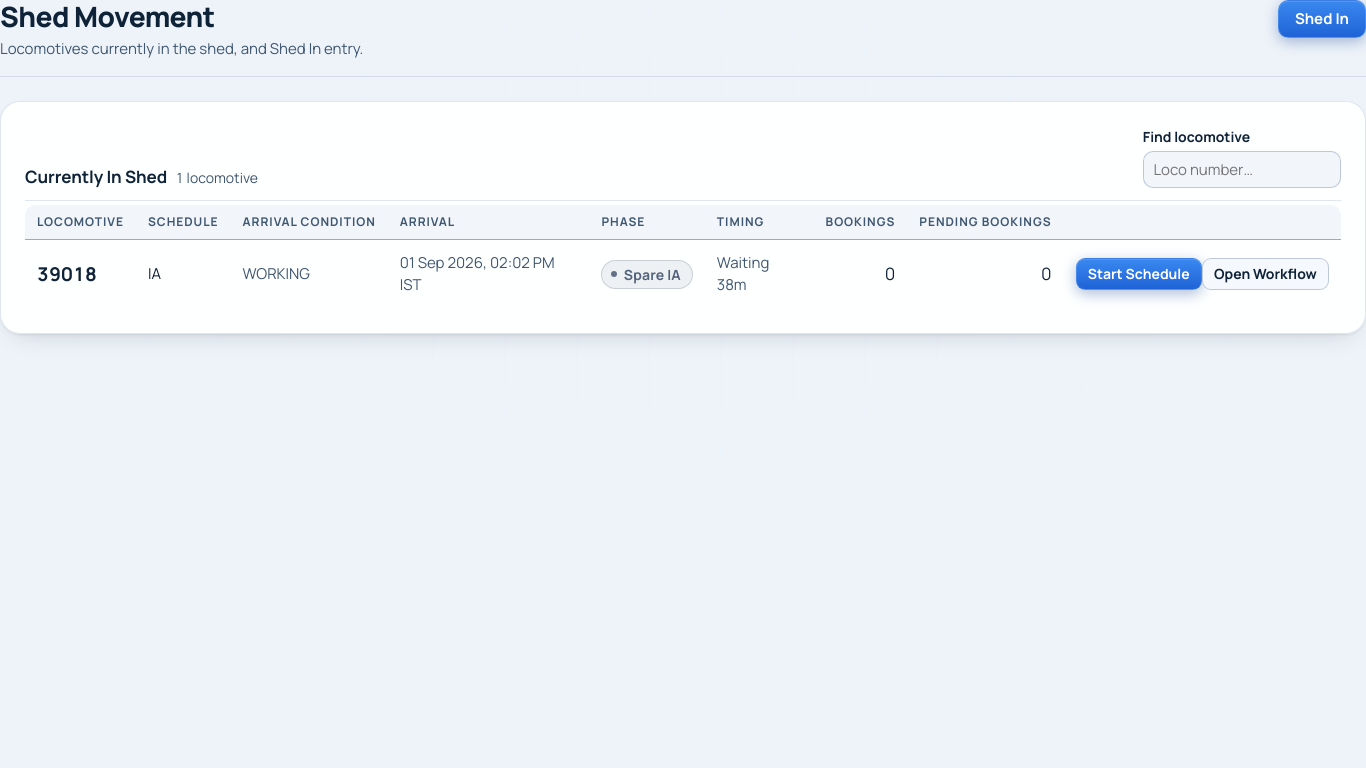
it: Shed lifecycle phases › Start Schedule opens a date/time dialog pre-filled with now, and advances the phase
Click the button "Start Schedule" at (1139, 274), box [1076, 258, 1202, 290]
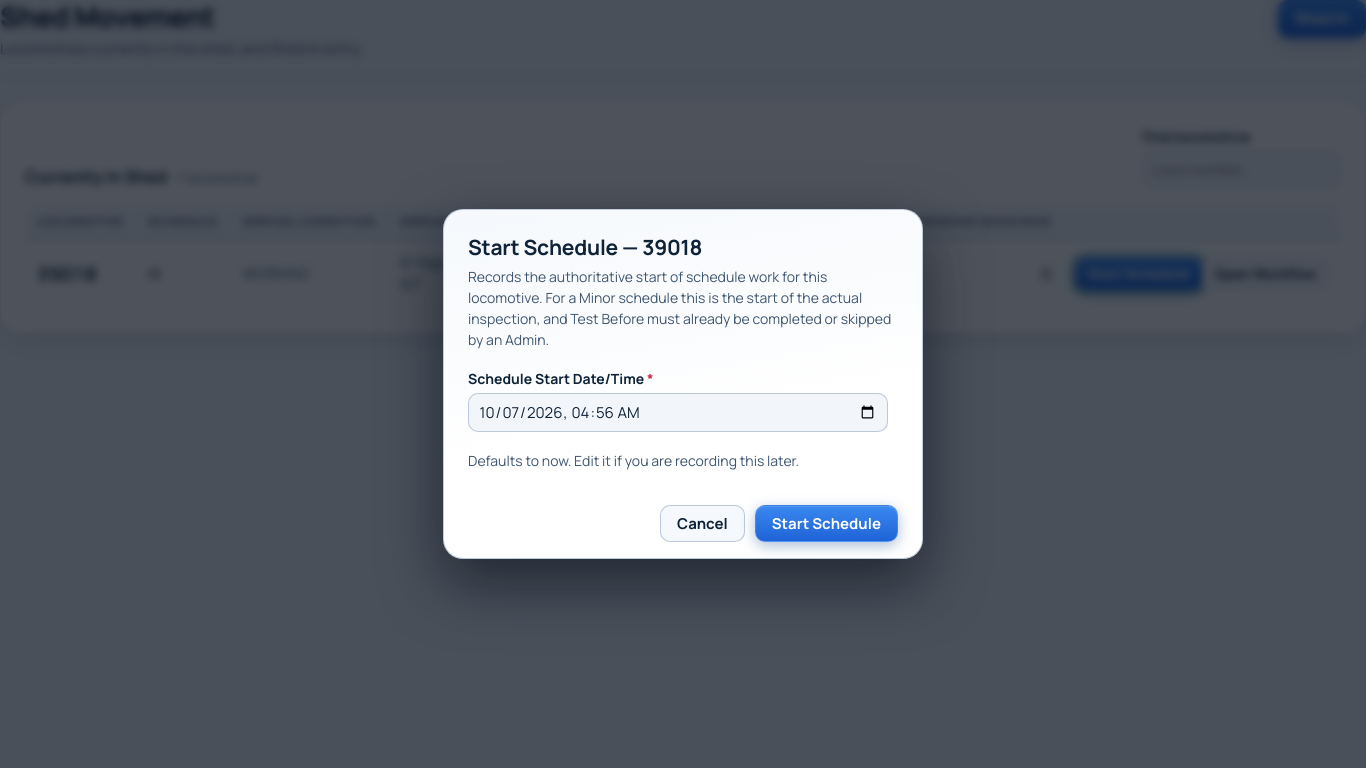
Click the button "Start Schedule" at (826, 523), box [755, 505, 898, 542]
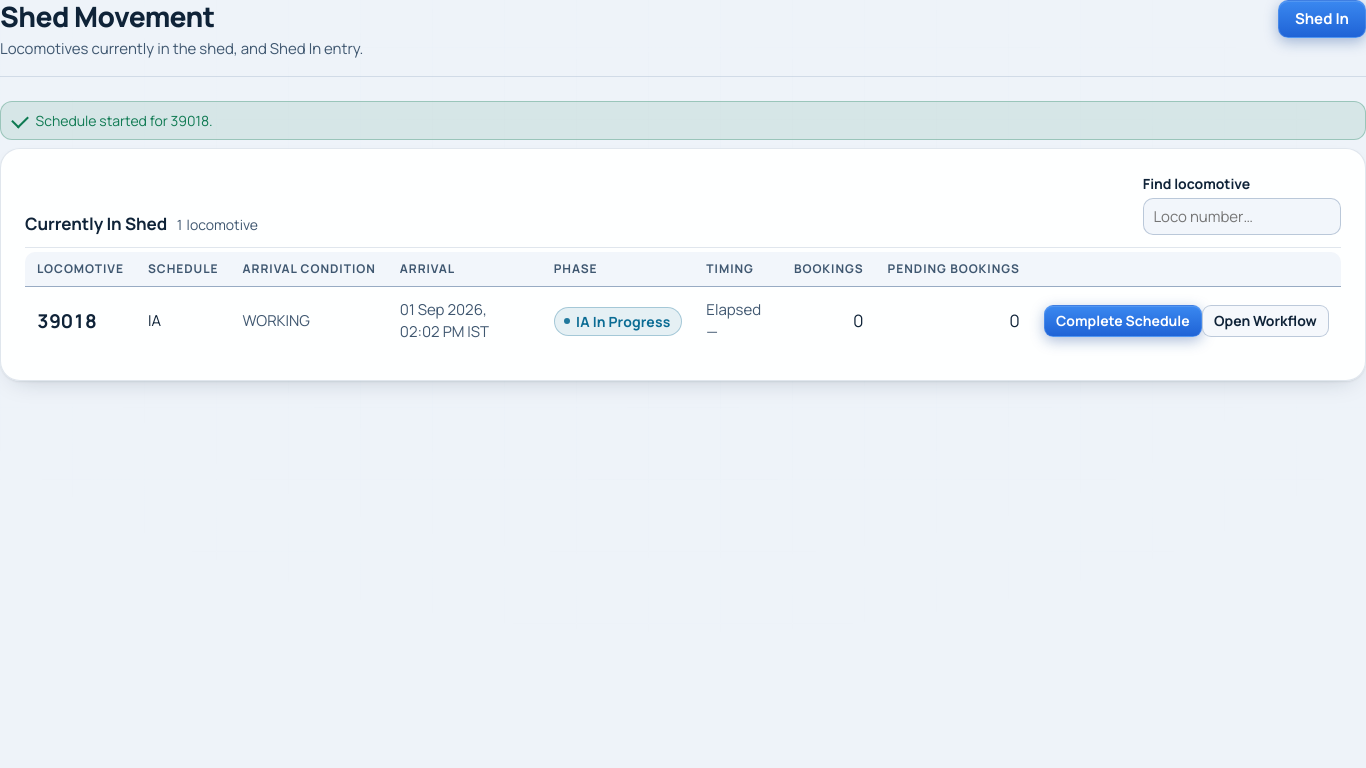
Result: the dialog is gone
Result: the text "IA In Progress" is shown at [554, 306, 682, 336]
